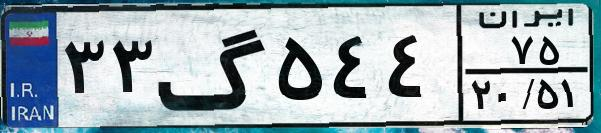0: (495, 70, 520, 125)
1: (560, 70, 590, 125)
2: (470, 70, 495, 125)
3: (57, 26, 110, 100), (110, 28, 156, 98)
4: (385, 28, 445, 110), (330, 28, 385, 110)
5: (270, 28, 330, 110), (537, 27, 568, 80), (535, 70, 560, 125)
7: (508, 27, 537, 80)
گ: (156, 12, 270, 120)
